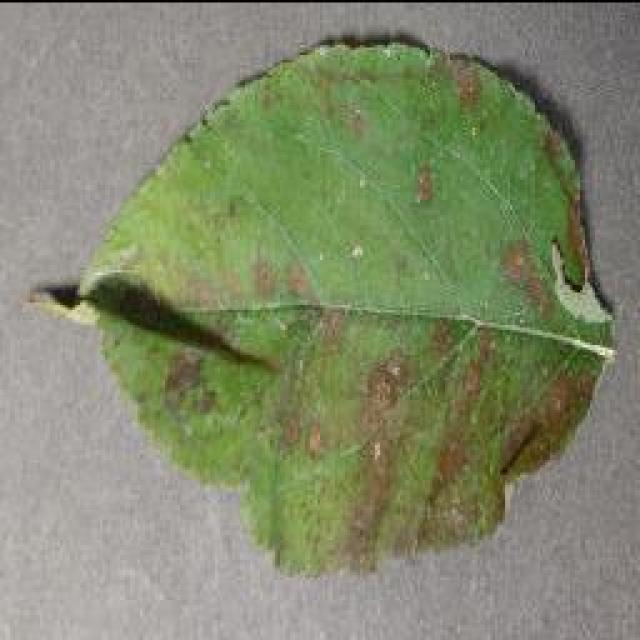apple rust disease: (28, 32, 618, 578)
